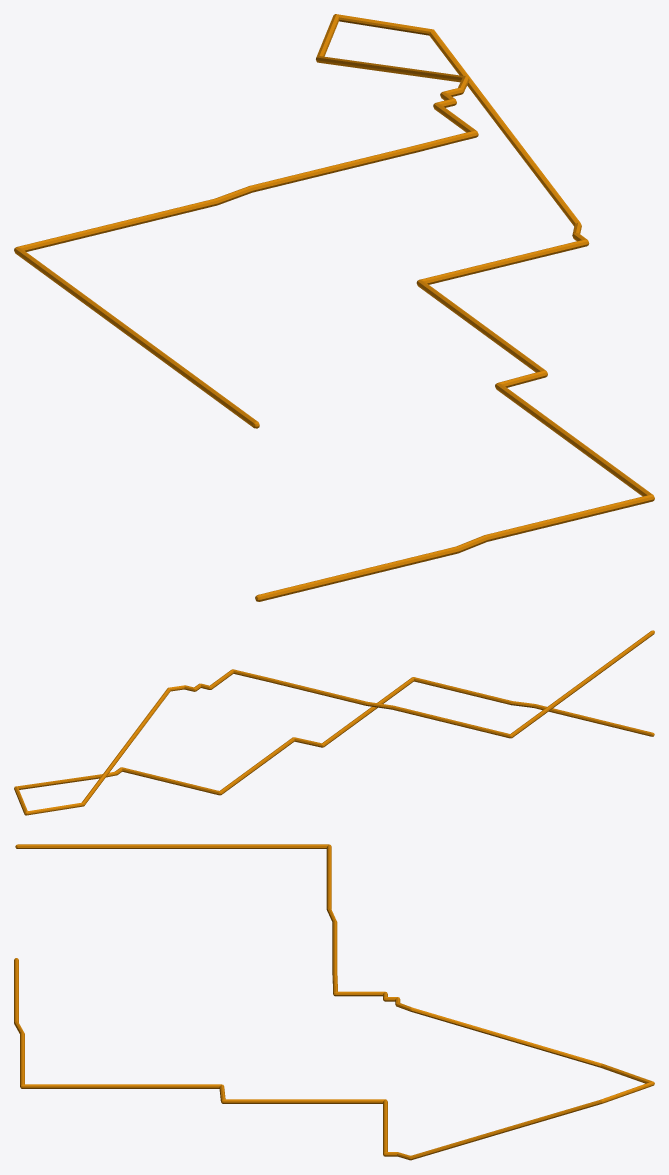
3 views of the same model, one above another, from view 1: azimuth 30°, elevation 25°; view 2: azimuth 150°, elevation 25°; view 3: azimuth 270°, elevation 25° (orthographic). The views are drawn at different scales.
Bounding box in the file's own units: 1905 × 520 × 2572.
